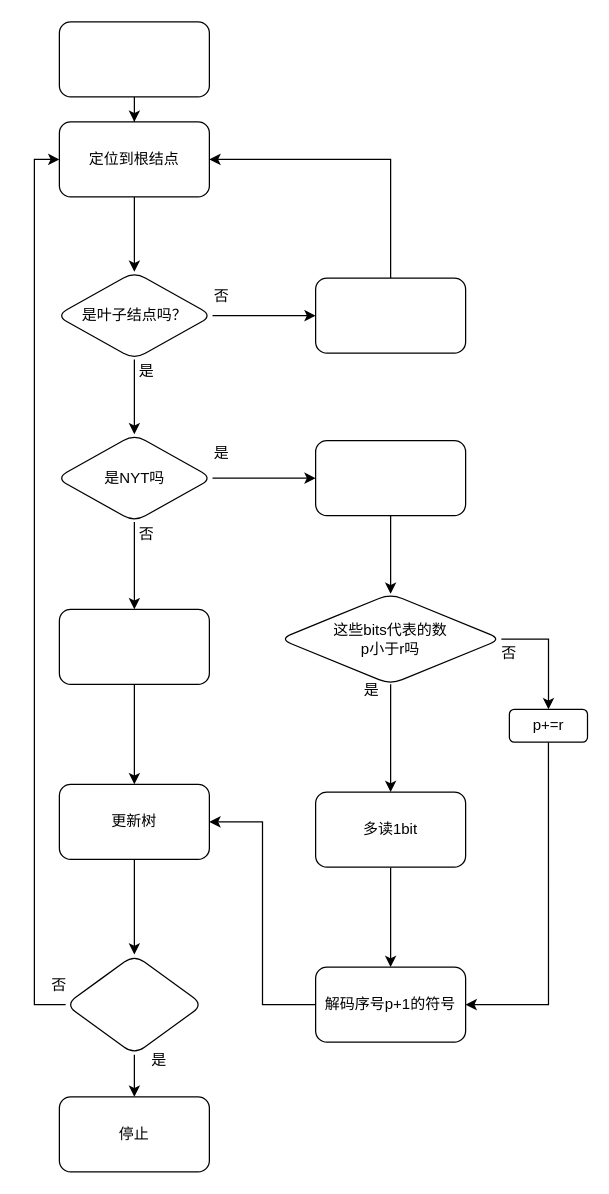
Image size: 609x1194. Some labels were removed from this diagram. Here are the shapes that lost their labels. From the top down, the box of each, then its label:
(58, 21, 209, 97): 开始
(314, 277, 466, 353): 多读1bit，根据这个bit决定走左支右支
(314, 439, 466, 516): 读b个bits
(58, 608, 209, 684): 访问（解码）这个结点的值
(64, 953, 203, 1055): 是最后一个bit吗
